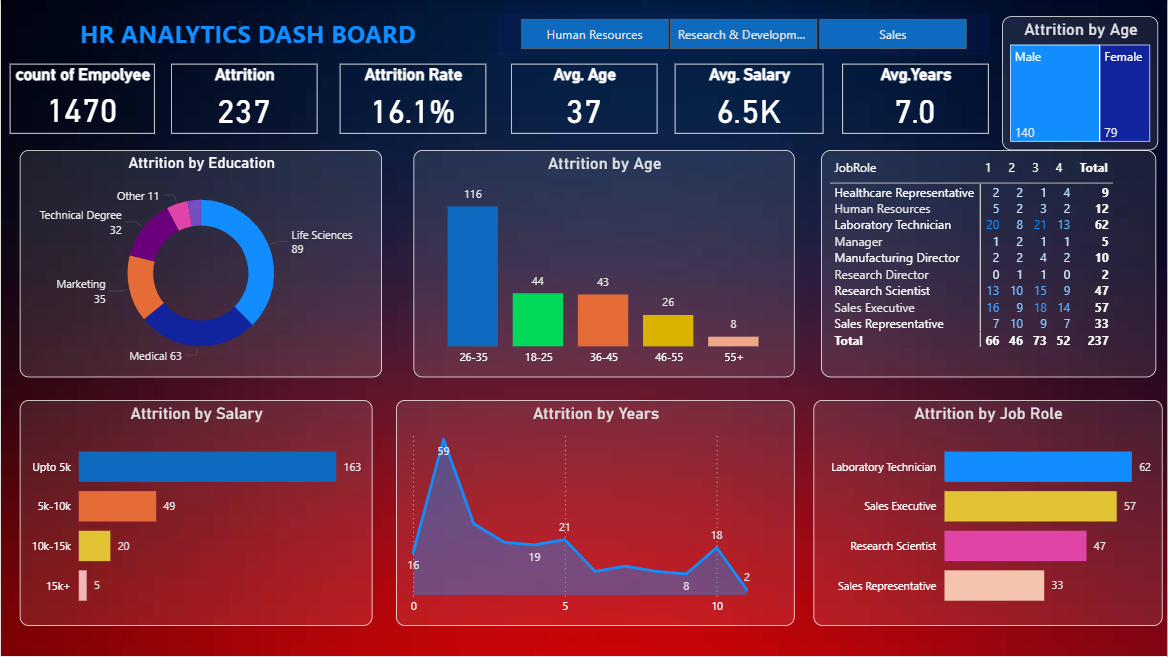

The dashboard page shown, as its layout file describes it:
{"tool":"powerbi","page":{"name":"Page 1","canvas":[1280,720],"ordinal":0},"visuals":[{"type":"card","title":"count of Empolyee","fields":{"Values":["CountNonNull(HR_Analytics (1).EmpID)"]},"box":[9.6,70,159.2,76.8],"z":0},{"type":"card","title":"Attrition","fields":{"Values":["Sum(HR_Analytics (1).AttritionCount)"]},"box":[186.6,70,160.5,76.8],"z":1},{"type":"card","title":"Attrition Rate","fields":{"Values":["HR_Analytics (1).AttritionRate"]},"box":[371.9,70,160.5,76.8],"z":2},{"type":"card","title":"Avg. Age ","fields":{"Values":["Avg(HR_Analytics (1).Age)"]},"box":[559.9,70,160.5,76.8],"z":3},{"type":"card","title":"Avg. Salary","fields":{"Values":["Avg(HR_Analytics (1).MonthlyIncome)"]},"box":[739.6,70,163.3,76.8],"z":4},{"type":"card","title":"Avg.Years","fields":{"Values":["Avg(HR_Analytics (1).YearsAtCompany)"]},"box":[923.5,70,160.5,76.8],"z":5},{"type":"columnChart","title":"Attrition by Age","fields":{"Category":["HR_Analytics (1).AgeGroup"],"Y":["Sum(HR_Analytics (1).AttritionCount)"]},"box":[452.8,164.7,418.5,249.7],"z":7},{"type":"pivotTable","fields":{"Rows":["HR_Analytics (1).JobRole"],"Columns":["HR_Analytics (1).JobSatisfaction"],"Values":["Sum(HR_Analytics (1).AttritionCount)"]},"box":[900.2,164.7,367.8,249.7],"z":8},{"type":"barChart","title":"Attrition by Salary","fields":{"Category":["HR_Analytics (1).SalarySlab"],"Y":["Sum(HR_Analytics (1).AttritionCount)"]},"box":[20.6,439.1,387,248.4],"z":9},{"type":"barChart","title":"Attrition by Job Role","fields":{"Y":["Sum(HR_Analytics (1).AttritionCount)"],"Category":["HR_Analytics (1).JobRole"]},"box":[891.9,439.1,382.8,248.4],"z":10},{"type":"areaChart","title":"Attrition by Years","fields":{"Y":["Sum(HR_Analytics (1).AttritionCount)"],"Category":["HR_Analytics (1).YearsAtCompany"]},"box":[433.6,439.1,437.7,248.4],"z":11},{"type":"treemap","title":"Attrition by Age","fields":{"Group":["HR_Analytics (1).Gender"],"Values":["Sum(HR_Analytics (1).AttritionCount)"]},"box":[1099.1,17.8,171.5,146.8],"z":12},{"type":"slicer","fields":{"Values":["HR_Analytics (1).Department"]},"box":[532.4,13.7,554.4,46.7],"z":13},{"type":"donutChart","title":"Attrition by Education","fields":{"Category":["HR_Analytics (1).EducationField"],"Y":["Sum(HR_Analytics (1).AttritionCount)"]},"box":[20.6,164.7,397.9,249.7],"z":14},{"type":"textbox","box":[9.6,13.7,505,46.7],"z":15}]}

Visuals, with their boxes in screenshot pixels (x1, y1, x2, y2), scaled from the page's 1280x720 canvas onto the 1168x657 screenshot:
"count of Empolyee" card: [x1=9, y1=64, x2=154, y2=134]
"Attrition" card: [x1=170, y1=64, x2=317, y2=134]
"Attrition Rate" card: [x1=339, y1=64, x2=486, y2=134]
"Avg. Age " card: [x1=511, y1=64, x2=657, y2=134]
"Avg. Salary" card: [x1=675, y1=64, x2=824, y2=134]
"Avg.Years" card: [x1=843, y1=64, x2=989, y2=134]
"Attrition by Age" columnChart: [x1=413, y1=150, x2=795, y2=378]
pivotTable - HR_Analytics (1).JobRole x HR_Analytics (1).JobSatisfaction: [x1=821, y1=150, x2=1157, y2=378]
"Attrition by Salary" barChart: [x1=19, y1=401, x2=372, y2=627]
"Attrition by Job Role" barChart: [x1=814, y1=401, x2=1163, y2=627]
"Attrition by Years" areaChart: [x1=396, y1=401, x2=795, y2=627]
"Attrition by Age" treemap: [x1=1003, y1=16, x2=1159, y2=150]
slicer - HR_Analytics (1).Department: [x1=486, y1=13, x2=992, y2=55]
"Attrition by Education" donutChart: [x1=19, y1=150, x2=382, y2=378]
textbox: [x1=9, y1=13, x2=470, y2=55]
